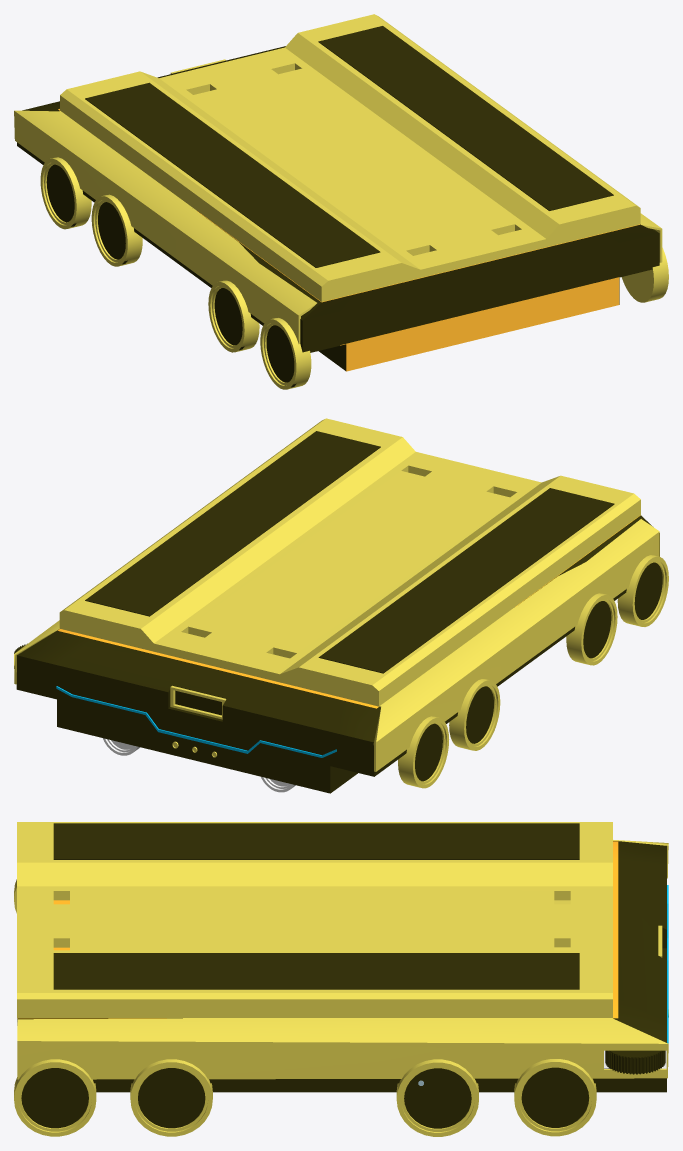
File: agv.glb
3 renders of one model, top to bottom at view 1: azimuth 30°, elevation 25°; view 2: azimuth 150°, elevation 25°; view 3: azimuth 270°, elevation 25°, orthographic. The views are drawn at different scales.
Visible parts, largest first — view 1: agv-材质, agv-材质.003, agv-材质.1, agv-材质.2, agv-材质.004; view 2: agv-材质, agv-材质.1, agv-材质.003, agv-材质.004, agv-材质.2, agv-材质.11, agv.001; view 3: agv-材质, agv-材质.003, agv-材质.1, agv-材质.004, agv-材质.005, agv-材质.2.
Boxes of the visible parts, left/top/right/bottom form: agv-材质: left=14, top=14, right=668, bottom=389; agv-材质.003: left=85, top=26, right=613, bottom=267; agv-材质.1: left=17, top=46, right=659, bottom=370; agv-材质.2: left=58, top=109, right=639, bottom=371; agv-材质.004: left=46, top=164, right=296, bottom=387; agv-材质: left=14, top=418, right=668, bottom=788; agv-材质.1: left=16, top=515, right=659, bottom=793; agv-材质.003: left=14, top=431, right=614, bottom=673; agv-材质.004: left=415, top=562, right=662, bottom=781; agv-材质.2: left=58, top=515, right=640, bottom=708; agv-材质.11: left=56, top=686, right=336, bottom=757; agv.001: left=103, top=738, right=295, bottom=792; agv-材质: left=14, top=822, right=668, bottom=1136; agv-材质.003: left=53, top=823, right=665, bottom=1074; agv-材质.1: left=17, top=841, right=666, bottom=1092; agv-材质.004: left=138, top=1067, right=589, bottom=1128; agv-材质.005: left=21, top=1068, right=88, bottom=1128; agv-材质.2: left=17, top=841, right=618, bottom=1018.
Size of what is drawn, in the model's own units: 5.37 by 1.52 by 7.08.
